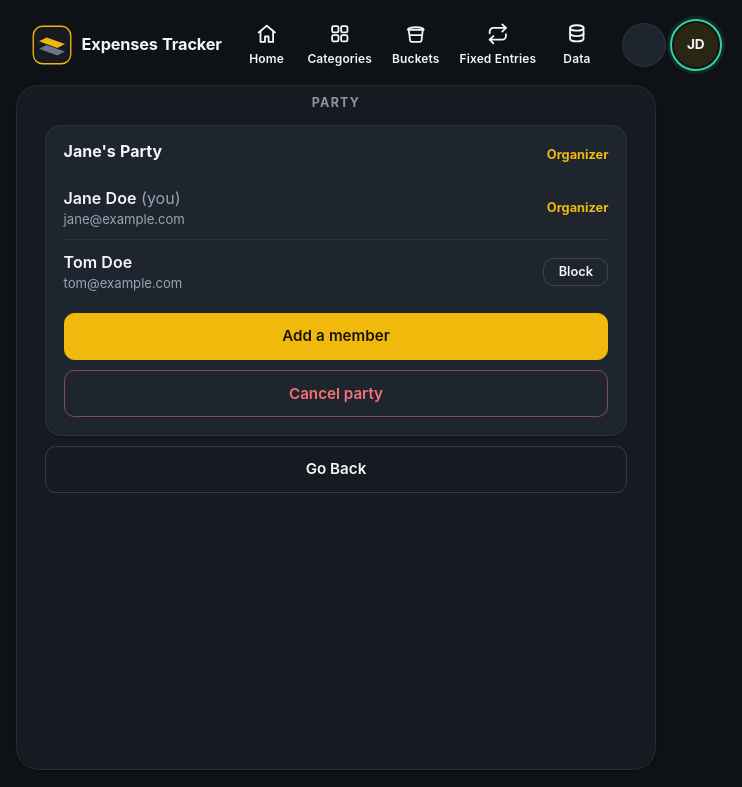
Test case: blocking a member › surfaces a block failure and keeps the party on screen
What coordinates should you click on to do the following:
click the button with aria-label "Block Tom Doe"
I would click on:
 (576, 272)
Its box is x1=543 y1=258 x2=608 y2=286.
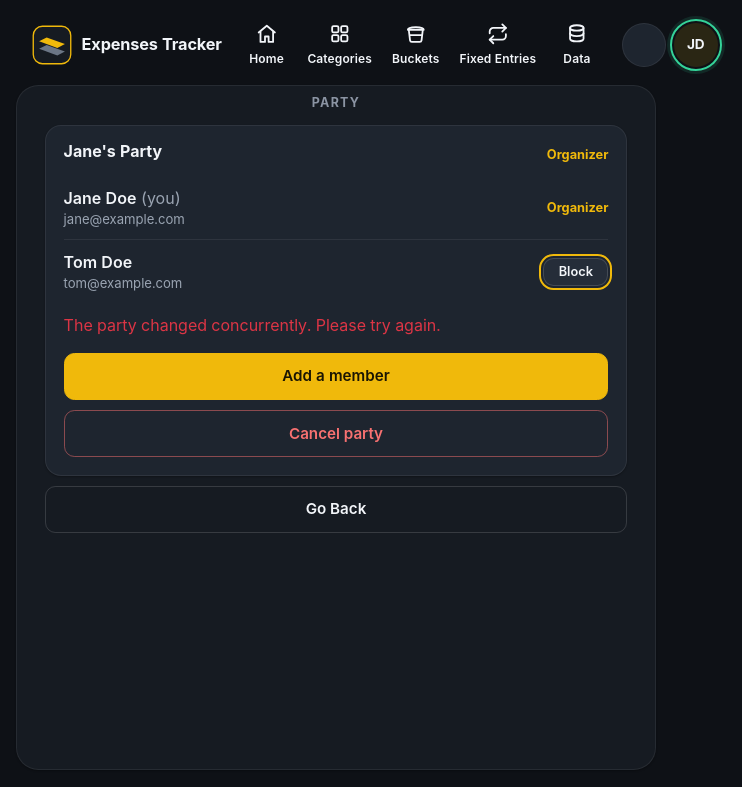
Now the message reads "The party changed concurrently. Please try again.", box x1=64 y1=315 x2=441 y2=335
